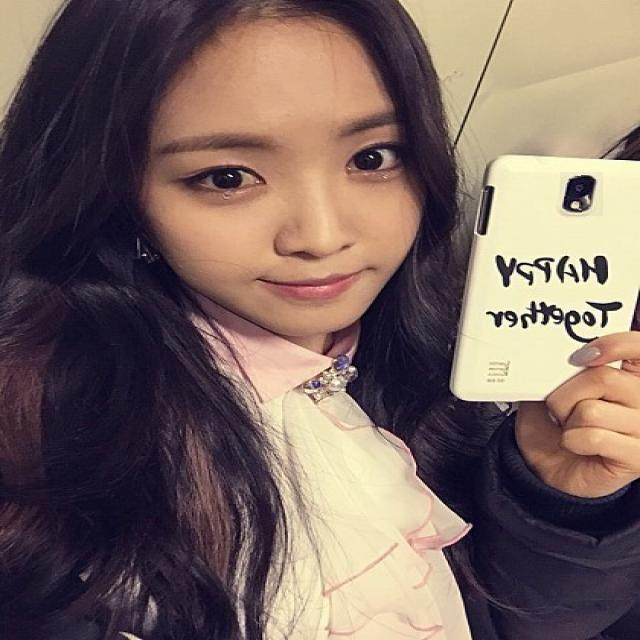phone: (448, 152, 638, 408)
